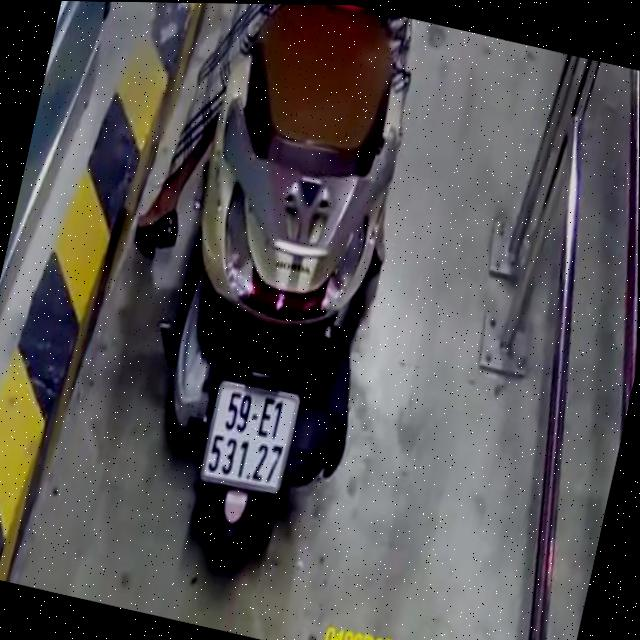motorcycle: (111, 5, 447, 591)
plate: (192, 372, 308, 506)
